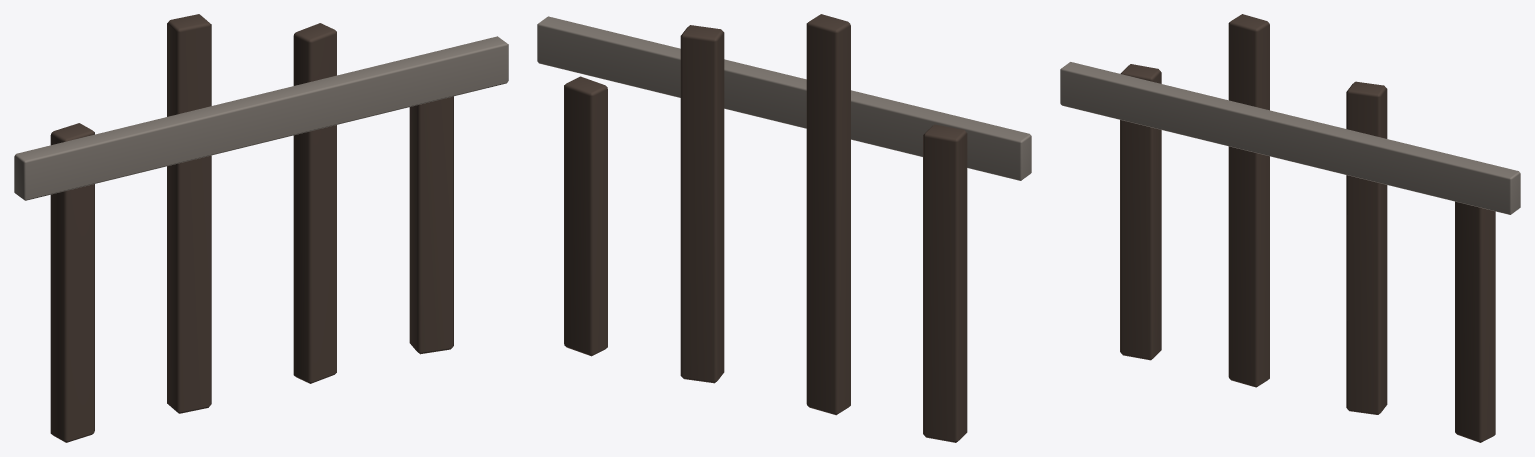
The model's file is prop_fake_cables_01.glb.
The picture shows the model from 3 angles, left to right: view 1: azimuth 30°, elevation 25°; view 2: azimuth 150°, elevation 25°; view 3: azimuth 330°, elevation 25°; orthographic projection. The views are drawn at different scales.
Parts seen in each view (by area): view 1: cable_wall_clamp.002, loose_cable_02.002, loose_cable_03.002, loose_cable_01.002, loose_cable_04.002; view 2: cable_wall_clamp.002, loose_cable_02.002, loose_cable_03.002, loose_cable_01.002, loose_cable_04.002; view 3: cable_wall_clamp.002, loose_cable_02.002, loose_cable_03.002, loose_cable_01.002, loose_cable_04.002.
Part boxes in pixels (x1=…): cable_wall_clamp.002: x1=14, y1=36, x2=508, y2=200; loose_cable_02.002: x1=167, y1=14, x2=211, y2=413; loose_cable_03.002: x1=293, y1=23, x2=336, y2=383; loose_cable_01.002: x1=50, y1=123, x2=94, y2=442; loose_cable_04.002: x1=409, y1=96, x2=453, y2=354; cable_wall_clamp.002: x1=537, y1=16, x2=1031, y2=180; loose_cable_02.002: x1=806, y1=14, x2=850, y2=415; loose_cable_03.002: x1=680, y1=25, x2=724, y2=383; loose_cable_01.002: x1=923, y1=124, x2=967, y2=442; loose_cable_04.002: x1=564, y1=76, x2=607, y2=356; cable_wall_clamp.002: x1=1060, y1=62, x2=1520, y2=214; loose_cable_02.002: x1=1228, y1=14, x2=1269, y2=387; loose_cable_03.002: x1=1346, y1=81, x2=1387, y2=414; loose_cable_01.002: x1=1120, y1=64, x2=1161, y2=360; loose_cable_04.002: x1=1455, y1=201, x2=1495, y2=442.
Size of the model in its own units: 0.5 by 0.38 by 0.0502.
